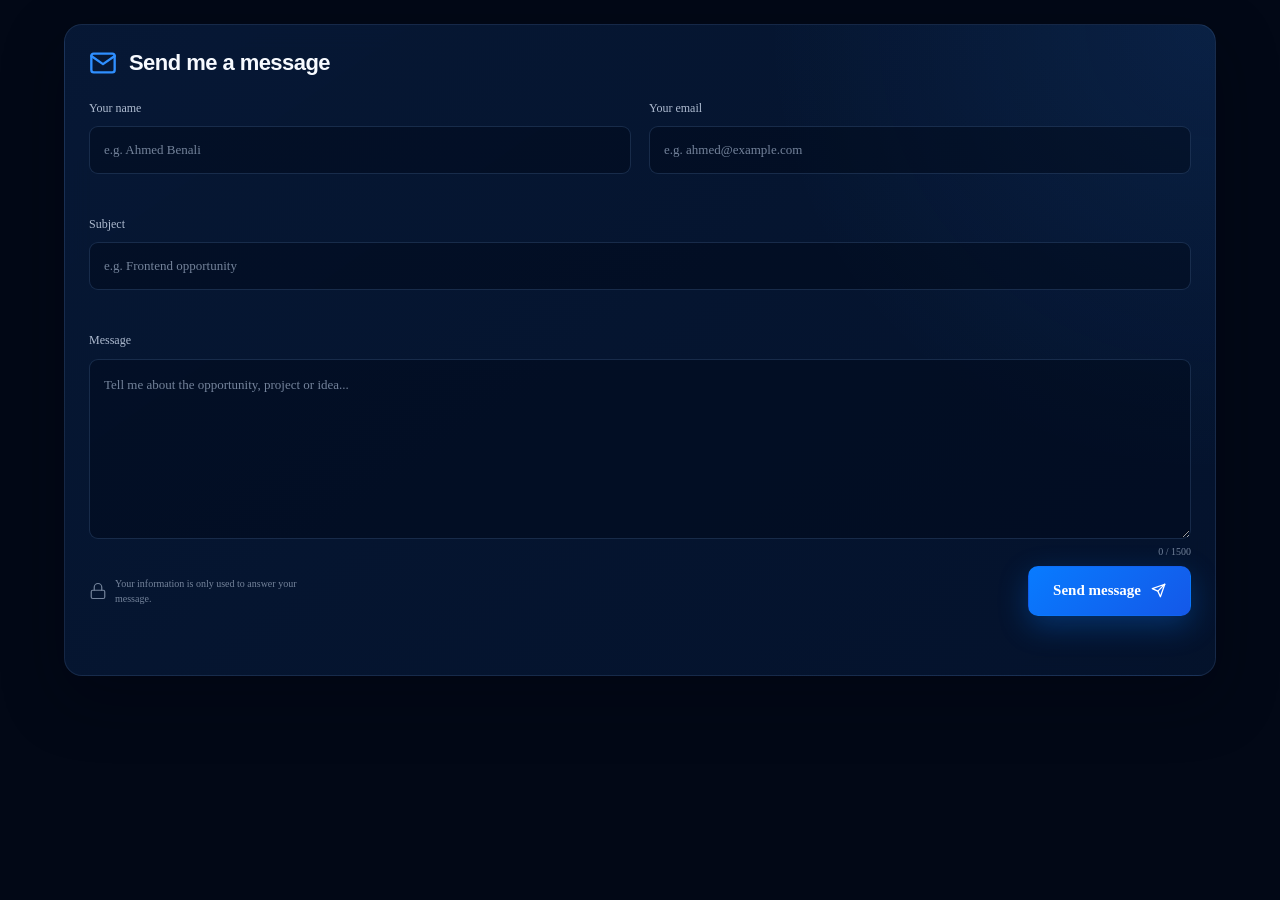
ContactForm › shows the minimum message length and blocks submission
The image size is (1280, 900).
Type "Jane Doe" into the field labelled "Your name". click: [360, 150]
box: [89,126,631,174]
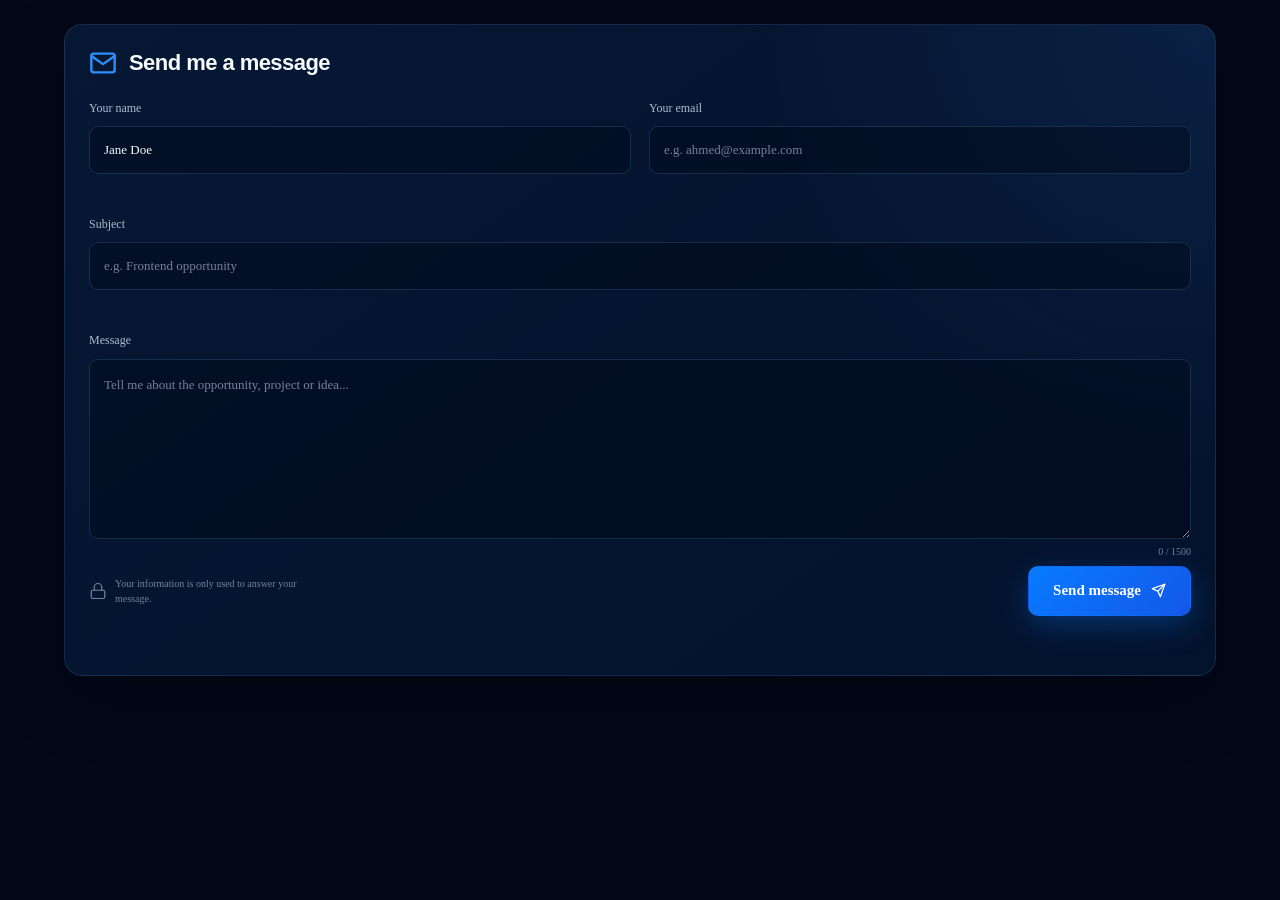
Type "jane@example.com" into the field labelled "Your email". click: [920, 150]
box: [649,126,1191,174]
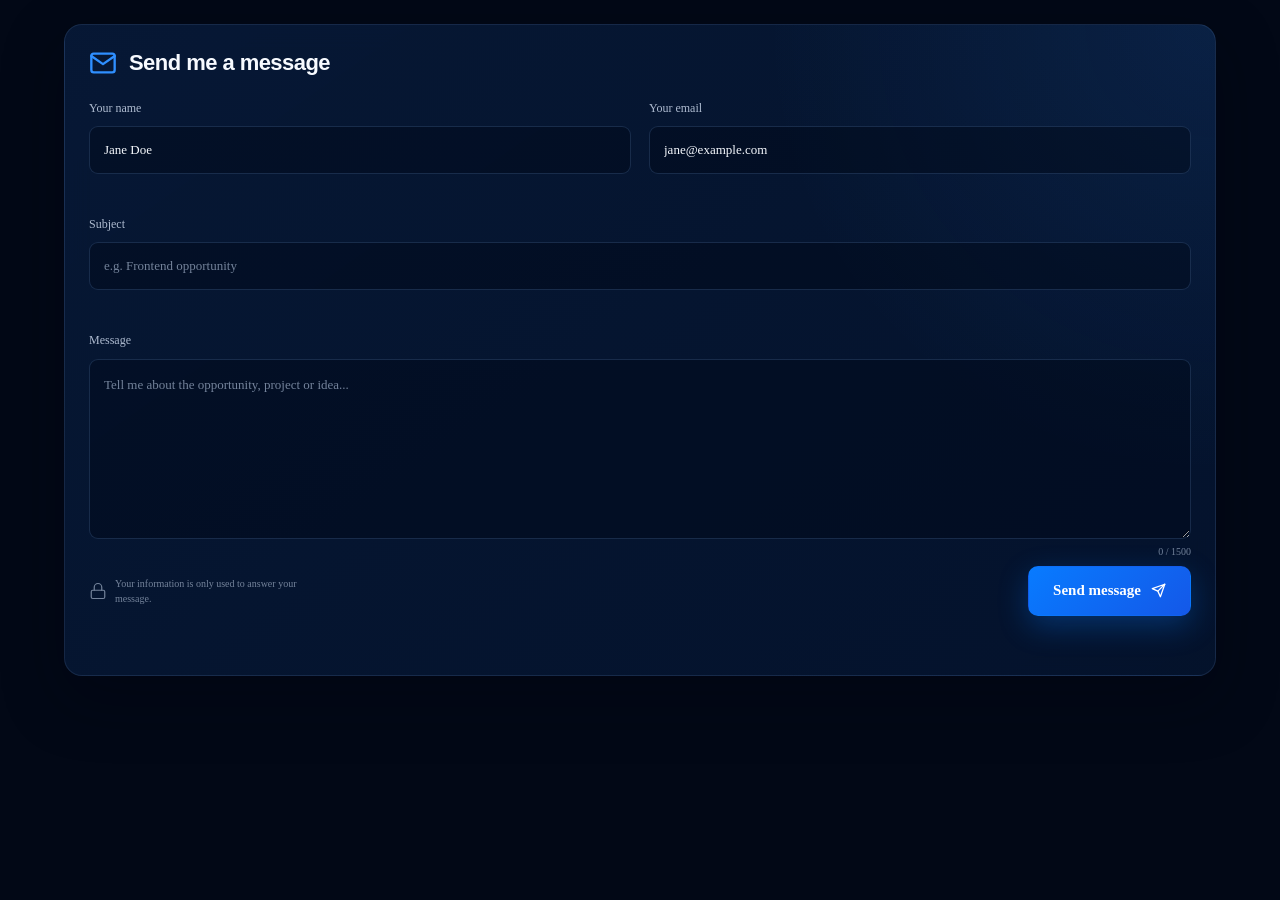
Type "Frontend opportunity" into the field labelled "Subject". click: [640, 266]
box: [89,242,1191,290]
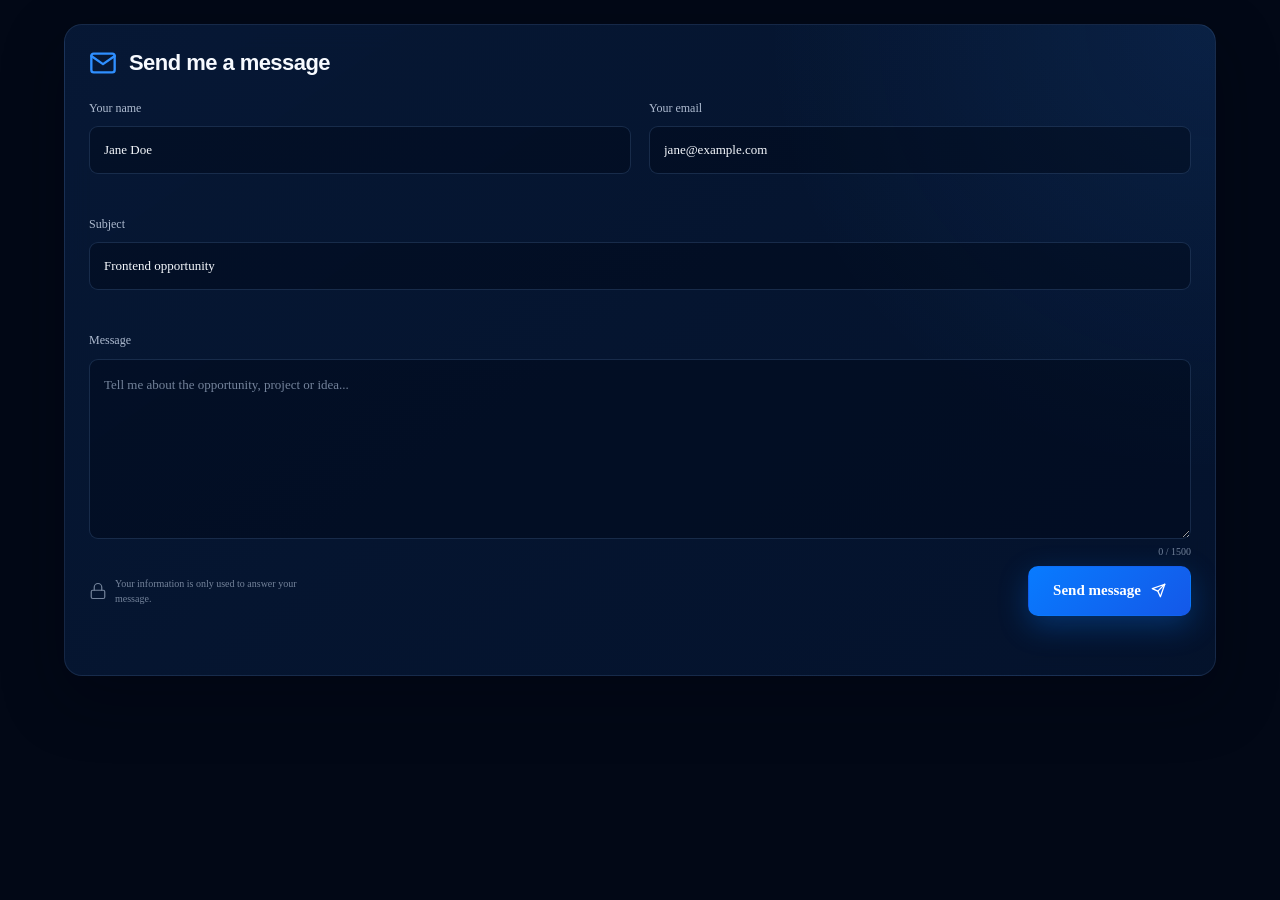
Type "I would like to discuss a frontend opportunity." into the text box labelled "Message". click: [640, 449]
box: [89,359,1191,539]
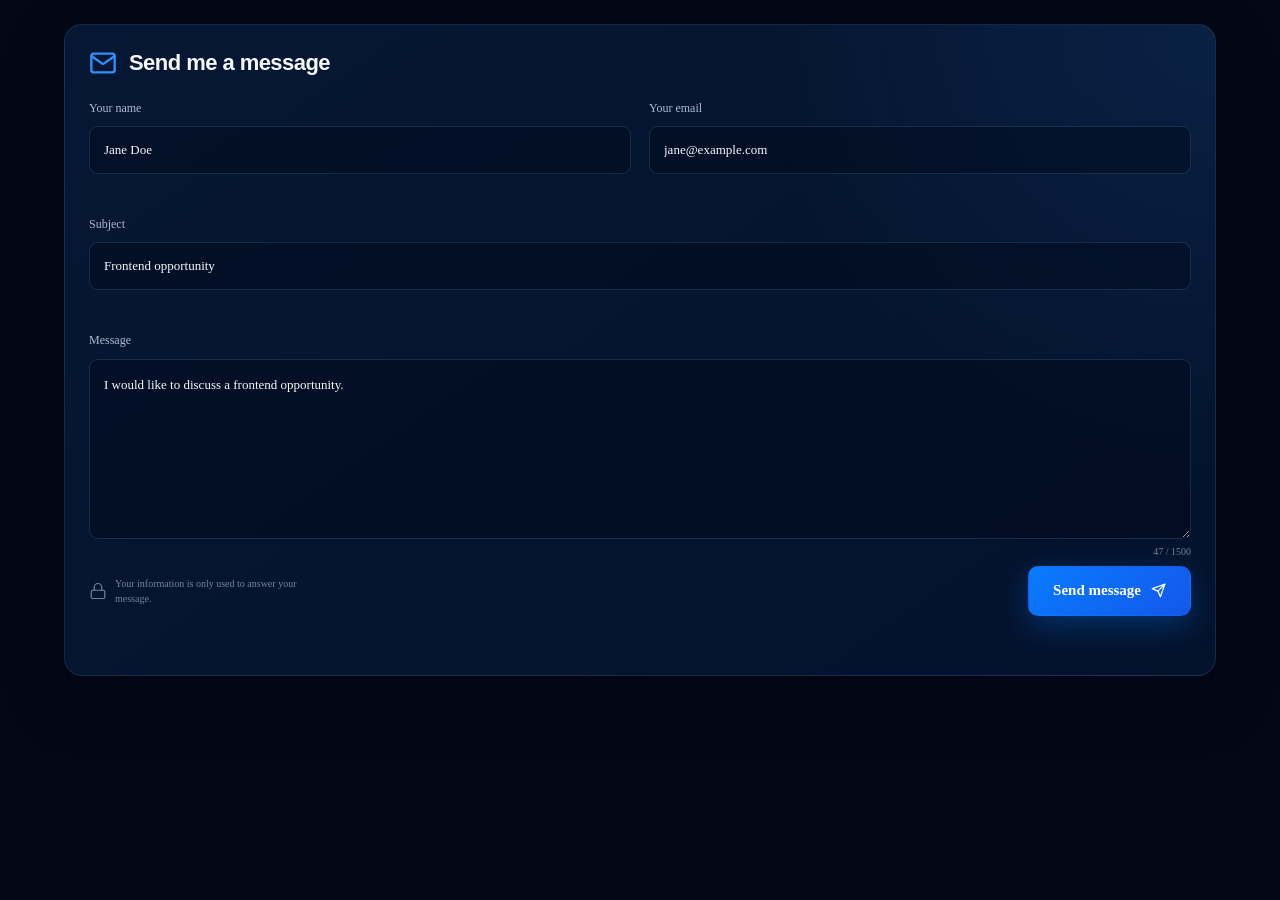
Replace the text in the text box labelled "Message" with "Short". click: [640, 449]
box: [89,359,1191,539]
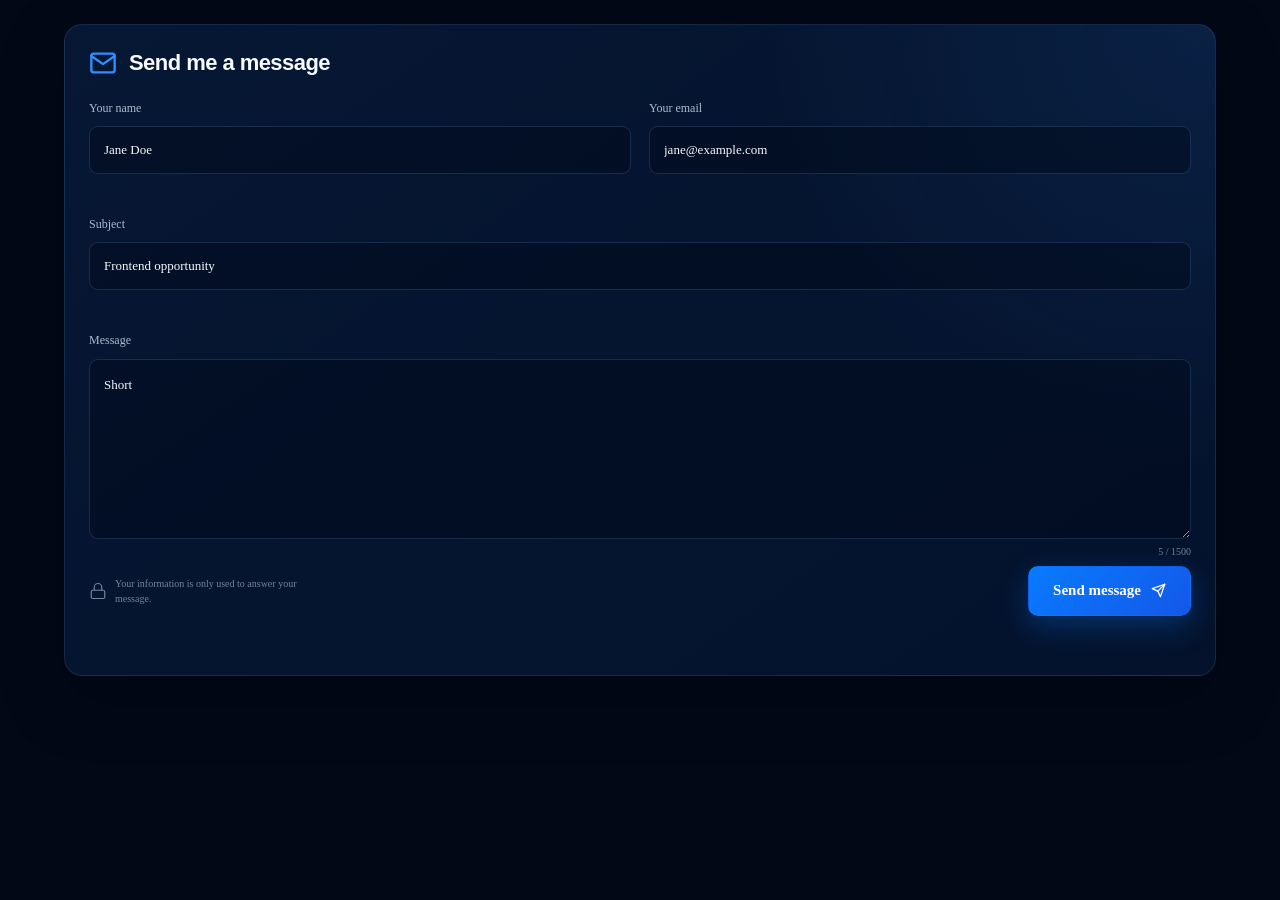
Click the button "Send message". click: [1110, 591]
box: [1028,566,1191,616]
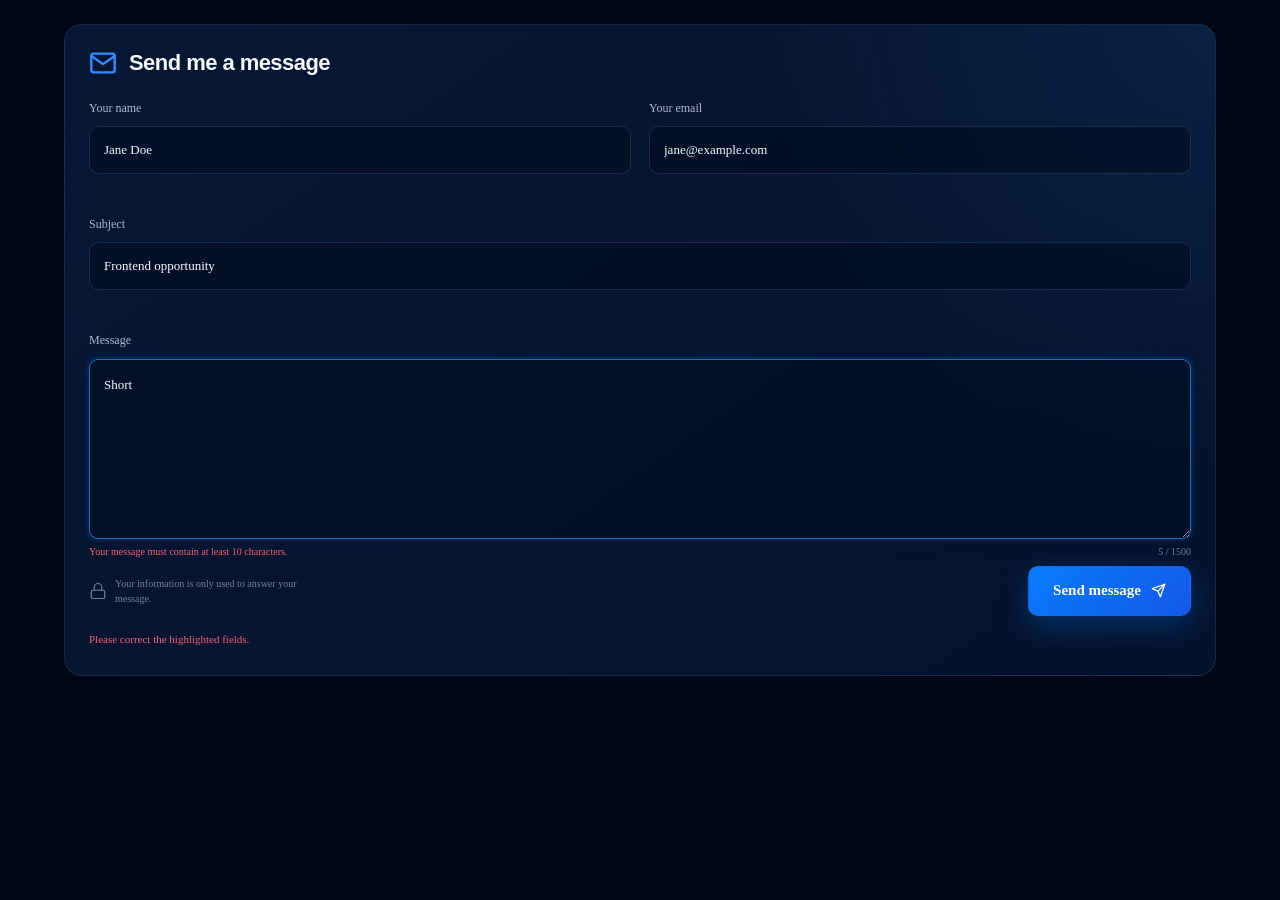
Expected: the text "Your message must contain at least 10 characters." is shown, [89,544,287,560]
